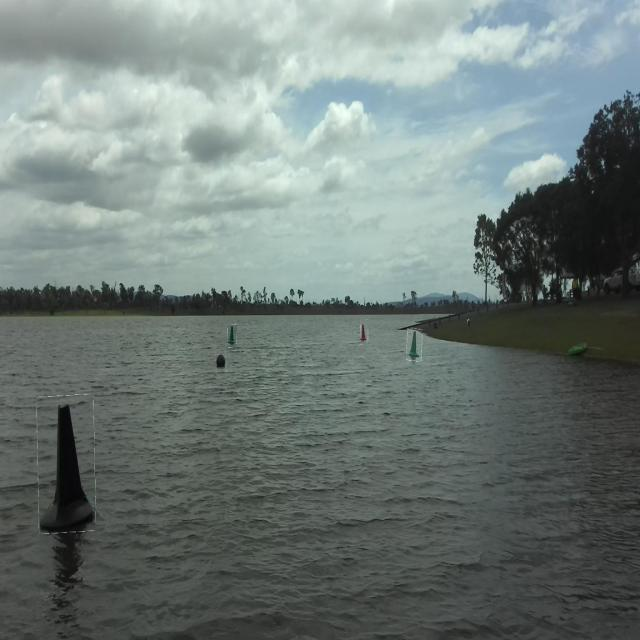Black_Buoy: (36, 399, 101, 530), (216, 348, 225, 371)
Green_Buoy: (408, 329, 421, 360), (228, 322, 236, 346)
Red_Buoy: (360, 321, 367, 343)
